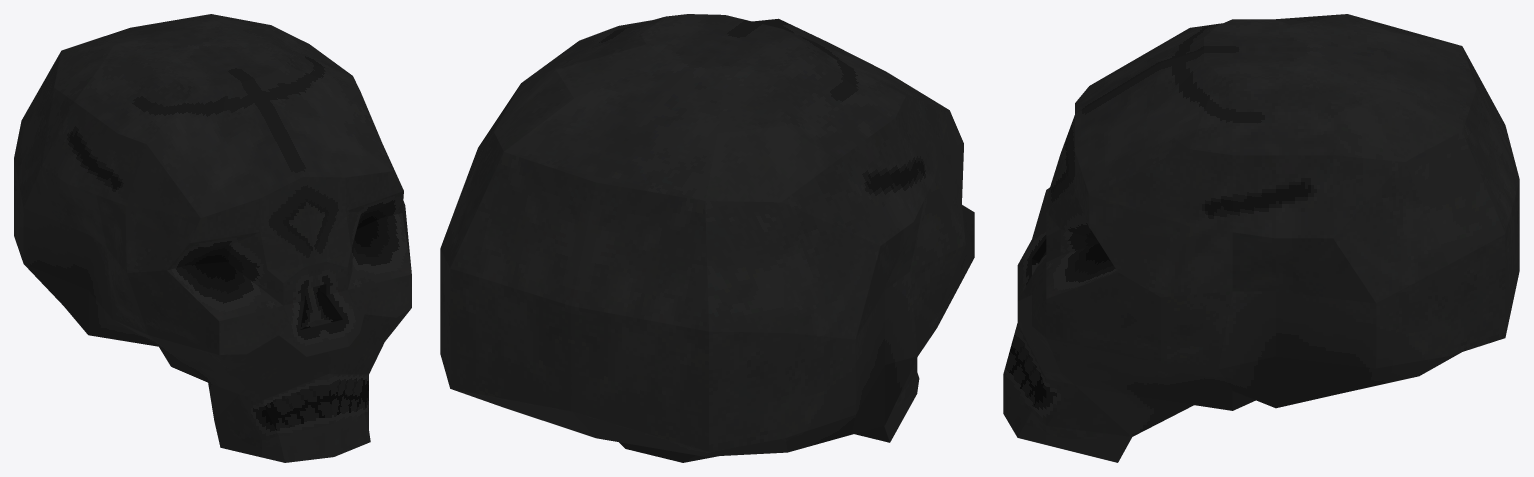
File: skull.glb
3 views of the same model, side by side, from view 1: azimuth 30°, elevation 25°; view 2: azimuth 150°, elevation 25°; view 3: azimuth 270°, elevation 25° (orthographic). The views are drawn at different scales.
Parts seen in each view (by area): view 1: Cube; view 2: Cube; view 3: Cube.
Part boxes in pixels (x1,y1,x2,y2): Cube: (14,14,411,462); Cube: (440,14,974,462); Cube: (1003,14,1519,462).
Size of what is drawn, in the model's own units: 1.75 by 1.88 by 2.25.
Materials: 1 (1 with a texture image).
